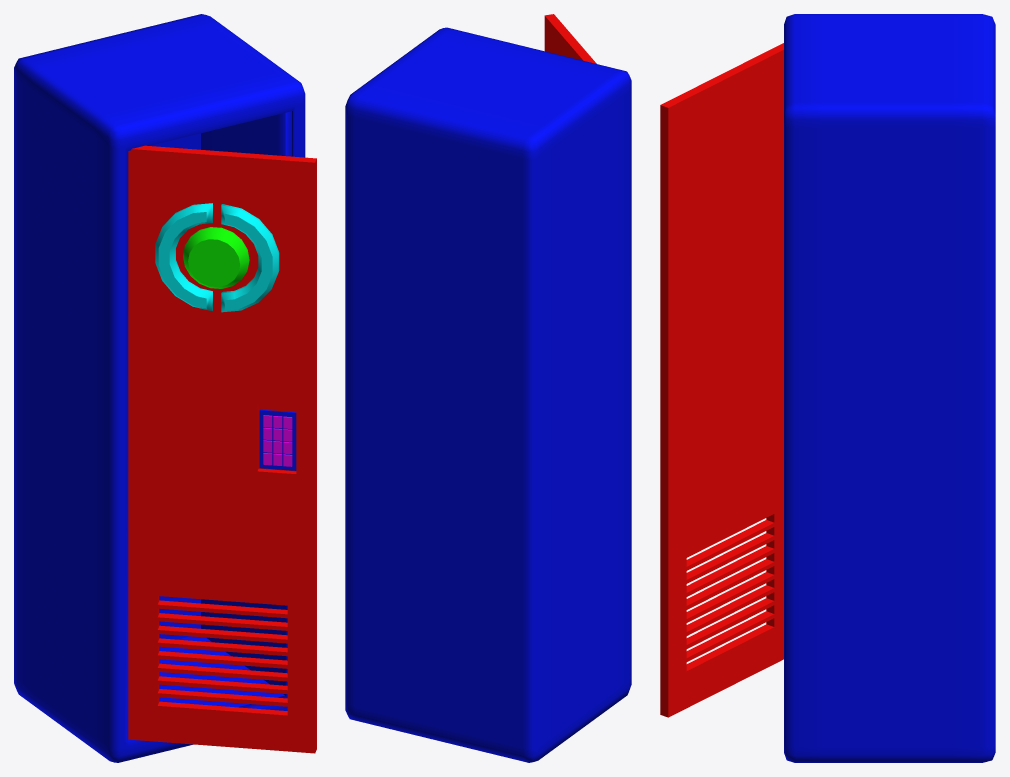
Rendered from SM_OpenLocker.FBX.
The picture shows the model from 3 angles, left to right: view 1: azimuth 30°, elevation 25°; view 2: azimuth 150°, elevation 25°; view 3: azimuth 270°, elevation 25°; orthographic projection. The views are drawn at different scales.
Parts seen in each view (by area): view 1: Locker004; view 2: Locker004; view 3: Locker004.
Part boxes in pixels (x1,y1,x2,y2): Locker004: (14,14,316,762); Locker004: (345,14,631,762); Locker004: (660,14,995,762).
Size of the model in its own units: 63.98 by 200 by 92.55.
